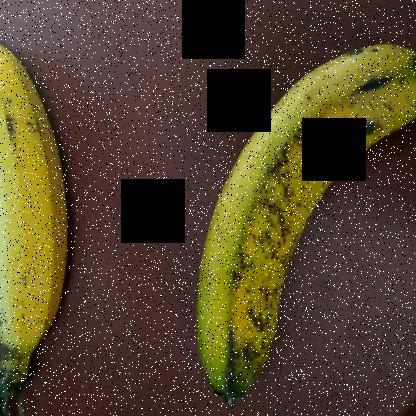freshripe: (1, 37, 84, 389)
ripe: (181, 39, 412, 415)
